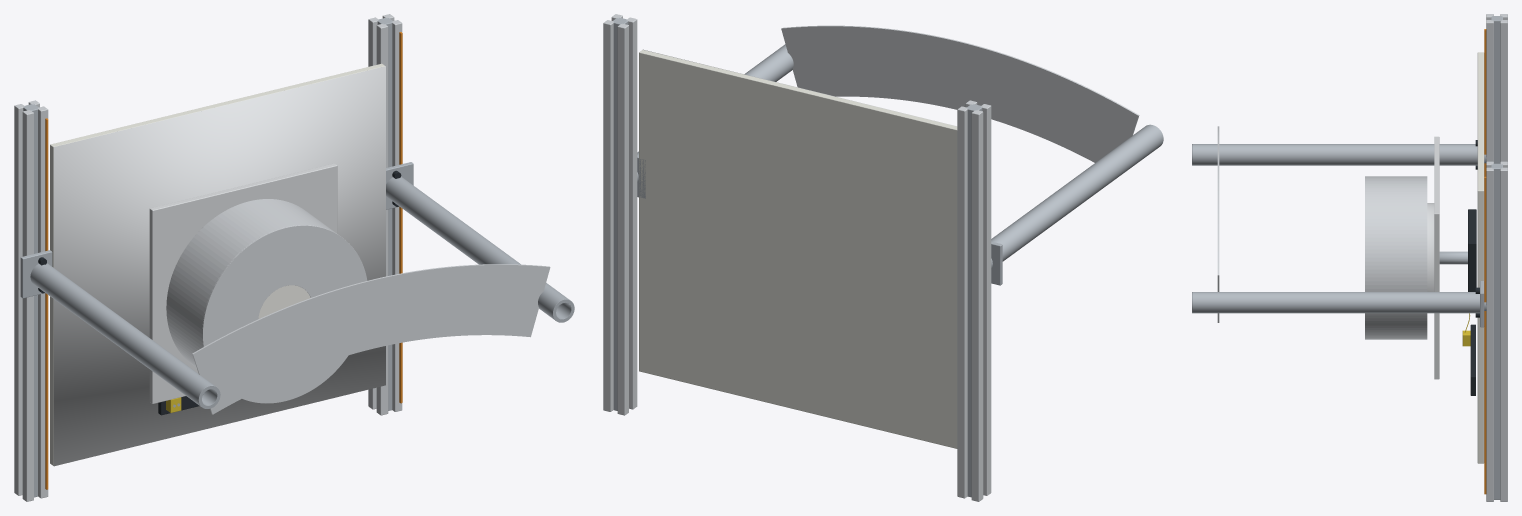
The model's file is apparatus_cooler_fixed.glb.
3 views of the same model, side by side, from view 1: azimuth 30°, elevation 25°; view 2: azimuth 150°, elevation 25°; view 3: azimuth 270°, elevation 25° (orthographic). The views are drawn at different scales.
Visible parts, largest first — view 1: COOLER_FIXED_BAND__mylar_base, COOLER_FIXED_BAND__fixed_reflector_band, COOLER_FIXED_BAND__aperture_plate, COOLER_FIXED_BAND__lift_plate, COOLER_FIXED_BAND__radiation_shield, COOLER_FIXED_BAND__upright_-0.1625, COOLER_FIXED_BAND__upright_0.1625, COOLER_FIXED_BAND__rail_-0.1625_flange_-1_1, COOLER_FIXED_BAND__rail_-0.1625_flange_-1_-1, COOLER_FIXED_BAND__rail_-0.1625_flange_1_1, COOLER_FIXED_BAND__acrylic_base, COOLER_FIXED_BAND__rail_0.1625_flange_1_1 (+8 smaller); view 2: COOLER_FIXED_BAND__acrylic_base, COOLER_FIXED_BAND__fixed_reflector_band, COOLER_FIXED_BAND__upright_-0.1625, COOLER_FIXED_BAND__rail_-0.1625_flange_-1_-1, COOLER_FIXED_BAND__rail_0.1625_flange_-1_-1, COOLER_FIXED_BAND__rail_-0.1625_flange_1_-1, COOLER_FIXED_BAND__rail_0.1625_flange_1_-1, COOLER_FIXED_BAND__rail_0.1625_flange_-1_1, COOLER_FIXED_BAND__rail_-0.1625_flange_-1_1, COOLER_FIXED_BAND__rail_-0.1625_core, COOLER_FIXED_BAND__rail_0.1625_core, COOLER_FIXED_BAND__upright_0.1625; view 3: COOLER_FIXED_BAND__radiation_shield, COOLER_FIXED_BAND__upright_0.1625, COOLER_FIXED_BAND__upright_-0.1625, COOLER_FIXED_BAND__acrylic_base, COOLER_FIXED_BAND__rail_0.1625_flange_1_-1, COOLER_FIXED_BAND__rail_0.1625_flange_1_1, COOLER_FIXED_BAND__rail_0.1625_core, COOLER_FIXED_BAND__lift_plate, COOLER_FIXED_BAND__rail_-0.1625_flange_1_1, COOLER_FIXED_BAND__rail_-0.1625_flange_1_-1, COOLER_FIXED_BAND__rail_-0.1625_core, COOLER_FIXED_BAND__orange_insert_0.1625 (+6 smaller).
Boxes of the visible parts, <box> form: COOLER_FIXED_BAND__mylar_base: <box>53,66,385,466</box>; COOLER_FIXED_BAND__fixed_reflector_band: <box>192,264,550,414</box>; COOLER_FIXED_BAND__aperture_plate: <box>202,225,367,403</box>; COOLER_FIXED_BAND__lift_plate: <box>149,163,337,403</box>; COOLER_FIXED_BAND__radiation_shield: <box>166,199,336,367</box>; COOLER_FIXED_BAND__upright_-0.1625: <box>30,263,220,409</box>; COOLER_FIXED_BAND__upright_0.1625: <box>386,177,574,322</box>; COOLER_FIXED_BAND__rail_-0.1625_flange_-1_1: <box>22,110,33,501</box>; COOLER_FIXED_BAND__rail_-0.1625_flange_-1_-1: <box>14,104,24,495</box>; COOLER_FIXED_BAND__rail_-0.1625_flange_1_1: <box>38,106,48,498</box>; COOLER_FIXED_BAND__acrylic_base: <box>50,63,384,465</box>; COOLER_FIXED_BAND__rail_0.1625_flange_1_1: <box>392,20,402,411</box>; COOLER_FIXED_BAND__acrylic_base: <box>639,50,957,448</box>; COOLER_FIXED_BAND__fixed_reflector_band: <box>781,25,1139,162</box>; COOLER_FIXED_BAND__upright_-0.1625: <box>991,124,1163,268</box>; COOLER_FIXED_BAND__rail_-0.1625_flange_-1_-1: <box>971,110,983,501</box>; COOLER_FIXED_BAND__rail_0.1625_flange_-1_-1: <box>617,23,628,415</box>; COOLER_FIXED_BAND__rail_-0.1625_flange_1_-1: <box>957,106,967,498</box>; COOLER_FIXED_BAND__rail_0.1625_flange_1_-1: <box>603,20,613,411</box>; COOLER_FIXED_BAND__rail_0.1625_flange_-1_1: <box>626,17,637,409</box>; COOLER_FIXED_BAND__rail_-0.1625_flange_-1_1: <box>981,104,991,495</box>; COOLER_FIXED_BAND__rail_-0.1625_core: <box>967,104,982,497</box>; COOLER_FIXED_BAND__rail_0.1625_core: <box>613,17,628,410</box>; COOLER_FIXED_BAND__upright_0.1625: <box>637,44,793,182</box>; COOLER_FIXED_BAND__radiation_shield: <box>1366,176,1427,339</box>; COOLER_FIXED_BAND__upright_0.1625: <box>1192,292,1486,313</box>; COOLER_FIXED_BAND__upright_-0.1625: <box>1192,144,1486,165</box>; COOLER_FIXED_BAND__acrylic_base: <box>1477,52,1484,463</box>; COOLER_FIXED_BAND__rail_0.1625_flange_1_-1: <box>1500,167,1507,501</box>; COOLER_FIXED_BAND__rail_0.1625_flange_1_1: <box>1486,167,1493,501</box>; COOLER_FIXED_BAND__rail_0.1625_core: <box>1491,163,1502,499</box>; COOLER_FIXED_BAND__lift_plate: <box>1434,136,1439,379</box>; COOLER_FIXED_BAND__rail_-0.1625_flange_1_1: <box>1486,20,1493,161</box>; COOLER_FIXED_BAND__rail_-0.1625_flange_1_-1: <box>1500,20,1507,161</box>; COOLER_FIXED_BAND__rail_-0.1625_core: <box>1491,16,1502,163</box>; COOLER_FIXED_BAND__orange_insert_0.1625: <box>1484,176,1486,494</box>.
Bounding box in the file's own units: 0.359 × 0.34 × 0.2935.
